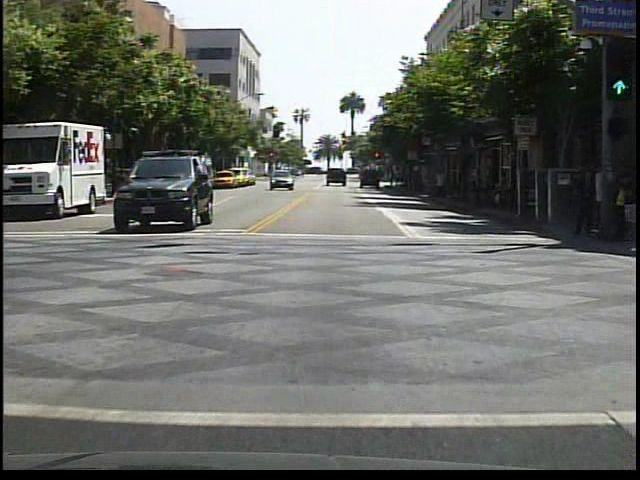person: (568, 156, 597, 240)
